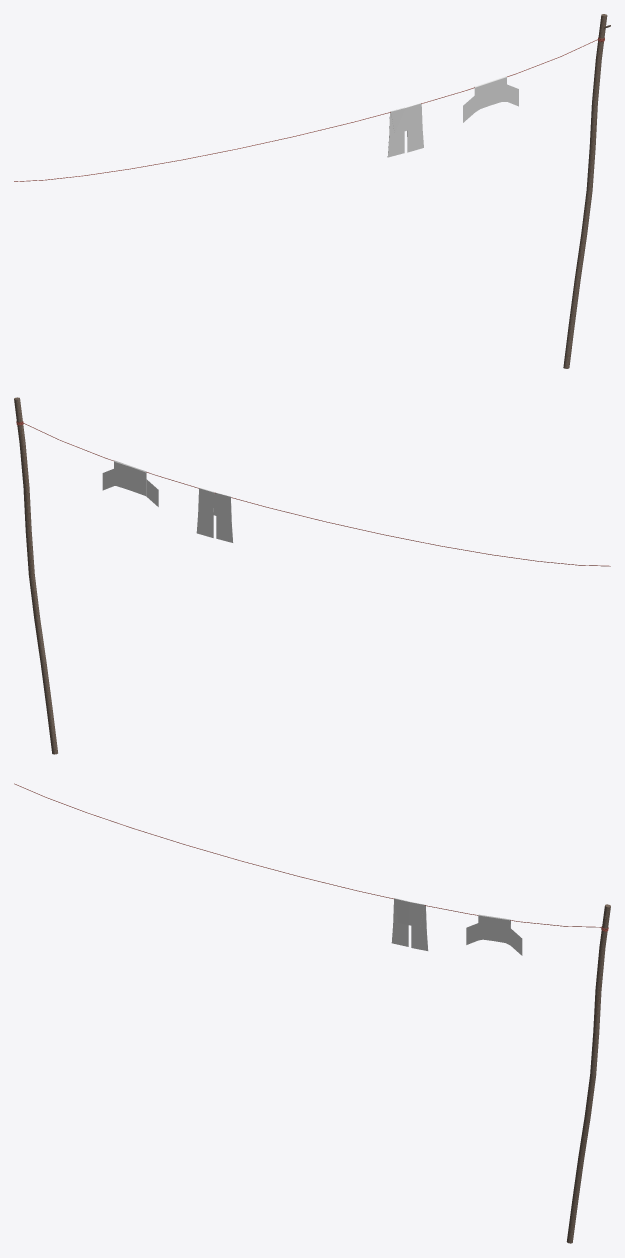
The model's file is Drying string.fbx.
3 renders of one model, top to bottom at view 1: azimuth 30°, elevation 25°; view 2: azimuth 150°, elevation 25°; view 3: azimuth 330°, elevation 25°, orthographic.
Parts seen in each view (by area): view 1: Rope, Pants, Shirt; view 2: Rope, Pants, Shirt; view 3: Rope, Pants, Shirt.
Boxes of the visible parts, x1,y1,x2,y2 form: Rope: (14,14,610,368); Pants: (387,103,423,157); Shirt: (463,76,518,122); Rope: (14,397,610,754); Pants: (196,488,233,542); Shirt: (102,460,158,506); Rope: (14,783,610,1243); Pants: (391,898,428,950); Shirt: (466,914,522,955).
Size of the model in its own units: 475 by 263 by 7.8.
Materials: 3 (3 with a texture image).
